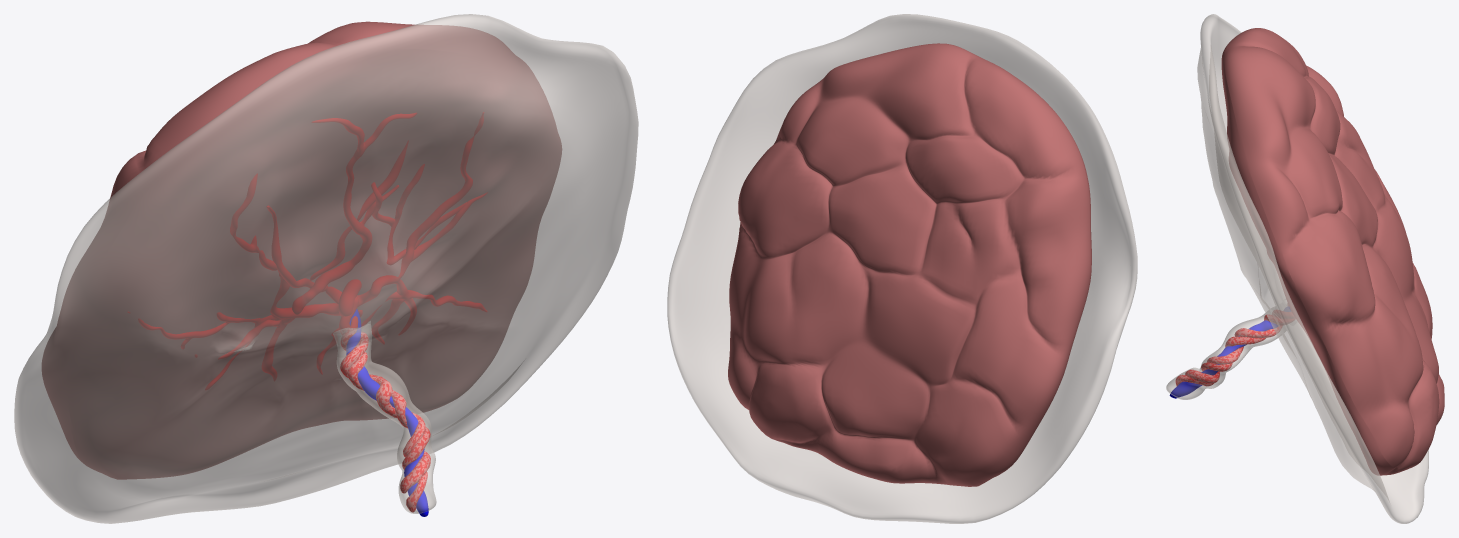
File: VH_F_Placenta.fbx
The picture shows the model from 3 angles, left to right: view 1: azimuth 30°, elevation 25°; view 2: azimuth 150°, elevation 25°; view 3: azimuth 270°, elevation 25°; orthographic projection. The views are drawn at different scales.
Parts seen in each view (by area): view 1: VH_F_amnion, VH_F_chorionic_plate, VH_F_basal_plate, VH_F_placenta_vessels, VH_F_umbilical_cord, VH_F_umbilical, VH_F_umbilical_vein; view 2: VH_F_basal_plate, VH_F_amnion; view 3: VH_F_basal_plate, VH_F_amnion, VH_F_chorionic_plate, VH_F_umbilical_cord, VH_F_umbilical, VH_F_umbilical_vein.
Boxes of the visible parts, x1,y1,x2,y2 form: VH_F_amnion: [14, 14, 638, 523]; VH_F_chorionic_plate: [69, 49, 561, 479]; VH_F_basal_plate: [42, 21, 545, 461]; VH_F_placenta_vessels: [128, 112, 487, 389]; VH_F_umbilical_cord: [333, 321, 436, 513]; VH_F_umbilical: [339, 297, 430, 512]; VH_F_umbilical_vein: [346, 309, 428, 516]; VH_F_basal_plate: [728, 43, 1090, 486]; VH_F_amnion: [667, 14, 1137, 523]; VH_F_basal_plate: [1224, 28, 1444, 471]; VH_F_amnion: [1197, 14, 1428, 523]; VH_F_chorionic_plate: [1221, 46, 1400, 475]; VH_F_umbilical_cord: [1166, 299, 1288, 399]; VH_F_umbilical: [1175, 310, 1282, 386]; VH_F_umbilical_vein: [1169, 307, 1289, 398].
Size of the model in its own units: 25.09 by 23.05 by 13.38.
